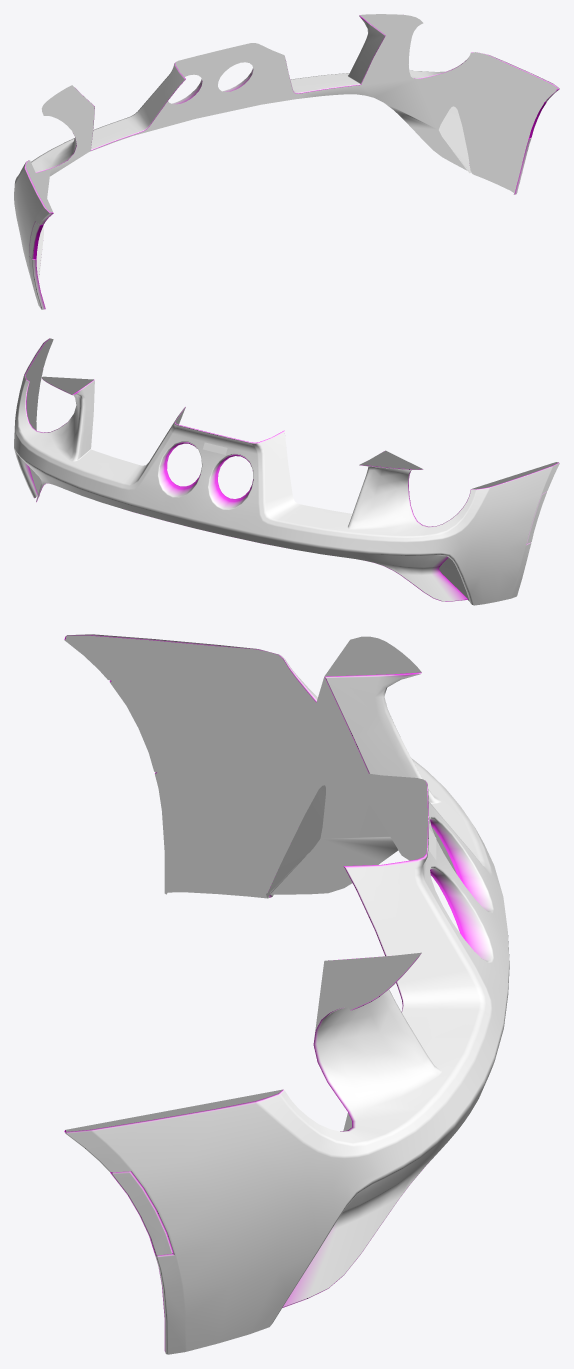
The model's file is Car_Ford_GT_2017_BumperR_SetA.fbx.
The picture shows the model from 3 angles, top to bottom: view 1: azimuth 30°, elevation 25°; view 2: azimuth 150°, elevation 25°; view 3: azimuth 270°, elevation 25°; orthographic projection. The views are drawn at different scales.
Parts seen in each view (by area): view 1: BumperR 6; view 2: BumperR 6; view 3: BumperR 6.
Boxes of the visible parts, x1=… form: BumperR 6: x1=14, y1=14, x2=559, y2=309; BumperR 6: x1=14, y1=338, x2=559, y2=605; BumperR 6: x1=64, y1=634, x2=509, y2=1354.
Size of the model in its own units: 1.99 by 0.5797 by 0.7521.
